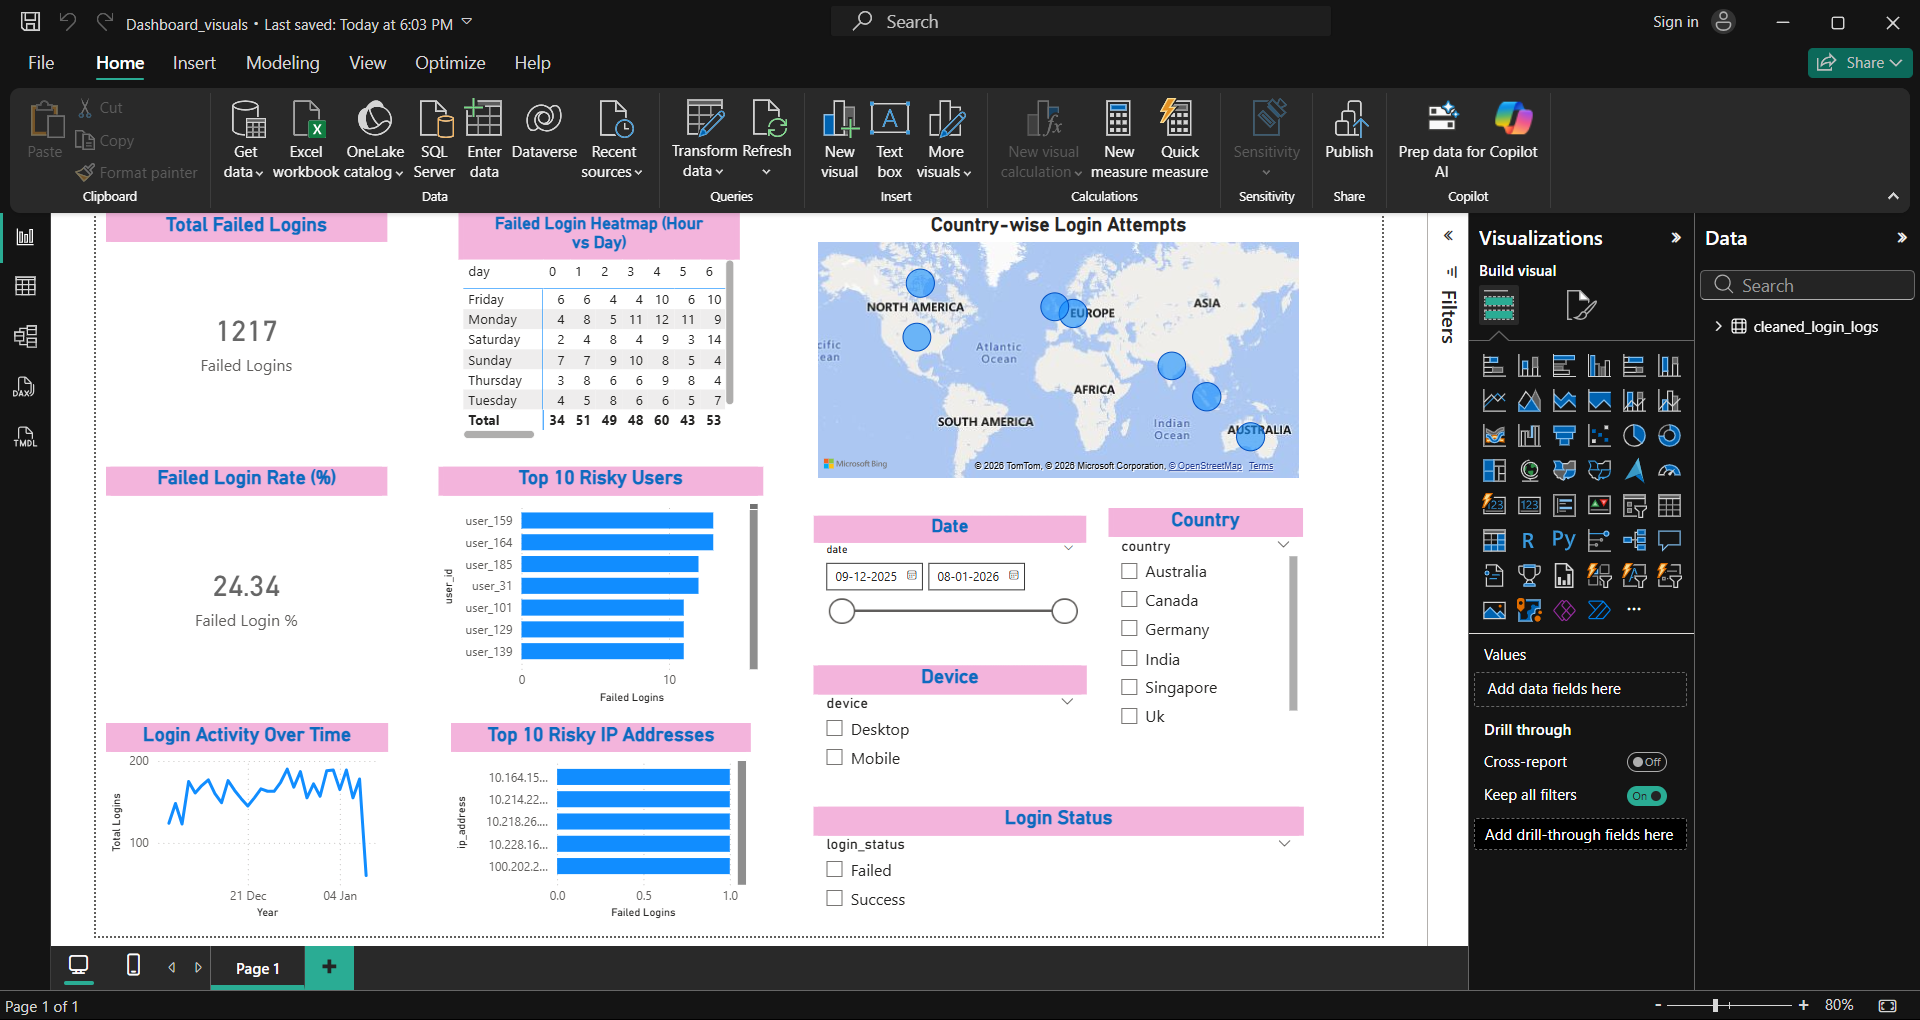

Layout of this report page (visuals, bound fields, positions):
{"tool":"powerbi","page":{"name":"Page 1","canvas":[1280,720],"ordinal":0},"visuals":[{"type":"card","title":"Total Failed Logins","fields":{"Values":["cleaned_login_logs.Failed Logins"]},"box":[9.5,0,279.7,229.7],"z":0},{"type":"card","title":"Failed Login Rate (%)","fields":{"Values":["cleaned_login_logs.Failed Login % "]},"box":[9.5,252.7,279.7,231.1],"z":1000},{"type":"lineChart","title":"Login Activity Over Time","fields":{"Y":["cleaned_login_logs.Total Logins"],"Category":["cleaned_login_logs.date.Variation.Date Hierarchy.Year","cleaned_login_logs.date.Variation.Date Hierarchy.Quarter","cleaned_login_logs.date.Variation.Date Hierarchy.Month","cleaned_login_logs.date.Variation.Date Hierarchy.Day"]},"box":[9.5,508.1,281.1,200],"z":2000},{"type":"pivotTable","title":"Failed Login Heatmap (Hour vs Day)","fields":{"Rows":["cleaned_login_logs.day"],"Columns":["cleaned_login_logs.hour"],"Values":["cleaned_login_logs.Failed Logins"]},"box":[360.8,0,279.7,229.7],"z":3000},{"type":"clusteredBarChart","title":"Top 10 Risky Users","fields":{"Category":["cleaned_login_logs.user_id"],"Y":["cleaned_login_logs.Failed Logins"]},"box":[340.5,252.7,323,240.5],"z":4000},{"type":"clusteredBarChart","title":"Top 10 Risky IP Addresses","fields":{"Category":["cleaned_login_logs.ip_address"],"Y":["cleaned_login_logs.Failed Logins"]},"box":[352.7,508.1,298.6,200],"z":5000},{"type":"map","title":"Country-wise Login Attempts","fields":{"Category":["cleaned_login_logs.country"],"Size":["cleaned_login_logs.Total Logins"]},"box":[713.5,0,487.8,268.9],"z":6000},{"type":"slicer","title":"Date","fields":{"Values":["cleaned_login_logs.date"]},"box":[714,301,271.2,124.4],"z":7000},{"type":"slicer","title":"Country","fields":{"Values":["cleaned_login_logs.country"]},"box":[1008.1,293.2,193.2,229.7],"z":8000},{"type":"slicer","title":"Device","fields":{"Values":["cleaned_login_logs.device"]},"box":[713.5,450,271.6,117.6],"z":9000},{"type":"slicer","title":"Login Status","fields":{"Values":["cleaned_login_logs.login_status"]},"box":[713.5,590.5,487.8,117.6],"z":10000}]}

Visuals, with their boxes on the page's 1280x720 design canvas (x1, y1, x2, y2). These are canvas units, not pixel positions in the 1920x1020 screenshot, which may show the page scaled, cropped or inside an application window:
"Total Failed Logins" card: region(10, 0, 289, 230)
"Failed Login Rate (%)" card: region(10, 253, 289, 484)
"Login Activity Over Time" lineChart: region(10, 508, 291, 708)
"Failed Login Heatmap (Hour vs Day)" pivotTable: region(361, 0, 640, 230)
"Top 10 Risky Users" clusteredBarChart: region(340, 253, 664, 493)
"Top 10 Risky IP Addresses" clusteredBarChart: region(353, 508, 651, 708)
"Country-wise Login Attempts" map: region(714, 0, 1201, 269)
"Date" slicer: region(714, 301, 985, 425)
"Country" slicer: region(1008, 293, 1201, 523)
"Device" slicer: region(714, 450, 985, 568)
"Login Status" slicer: region(714, 590, 1201, 708)
